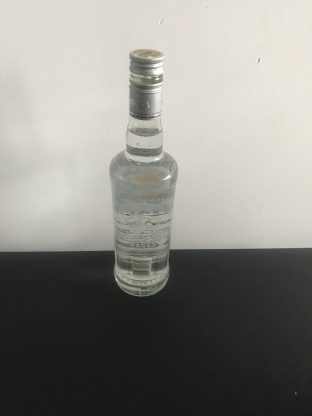nakretka: (127, 47, 165, 120)
